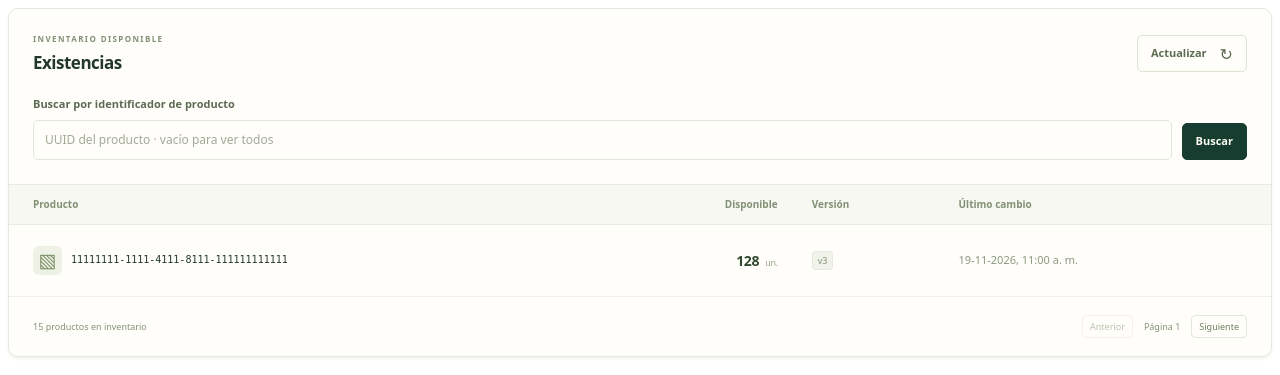
Scenario: microcomponentes autocontenidos de STOCK › permite buscar por UUID, actualizar y paginar existencias
Later steps or results of the test are not shown.
Step 1. Click the button "Siguiente" → (1219, 326), box [1191, 315, 1247, 338]
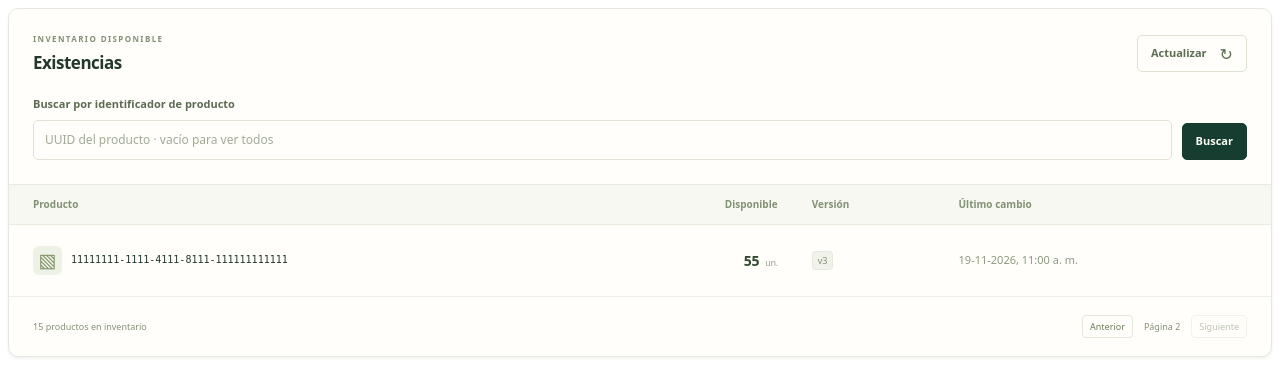
Expected: the text "55" is shown, [744, 251, 759, 270]
